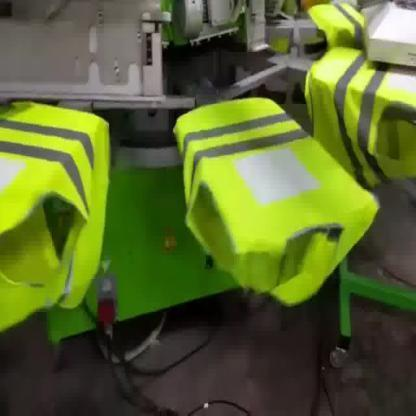vest: (171, 96, 380, 308), (0, 99, 113, 337), (304, 43, 416, 190)
